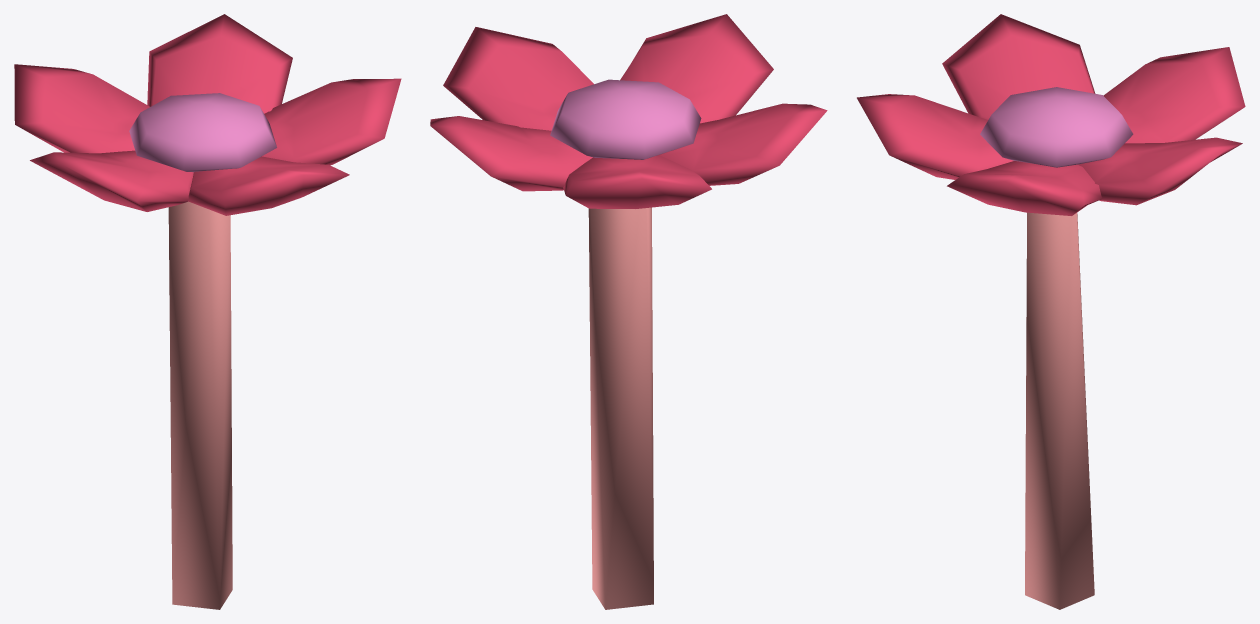
The model's file is Flower.fbx.
3 renders of one model, left to right at view 1: azimuth 30°, elevation 25°; view 2: azimuth 150°, elevation 25°; view 3: azimuth 270°, elevation 25°, orthographic. The views are drawn at different scales.
Visible parts, largest first — view 1: Flower; view 2: Flower; view 3: Flower.
Part boxes in pixels (x1,y1,x2,y2): Flower: [14, 14, 401, 609]; Flower: [430, 14, 827, 609]; Flower: [857, 14, 1245, 609].
Bounding box in the file's own units: 223 × 308 × 219.
